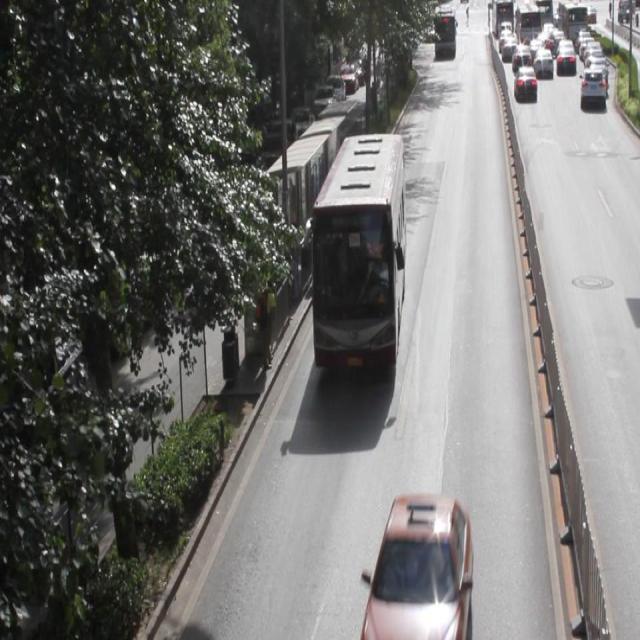car: (365, 490, 467, 640)
van: (312, 136, 404, 369)
